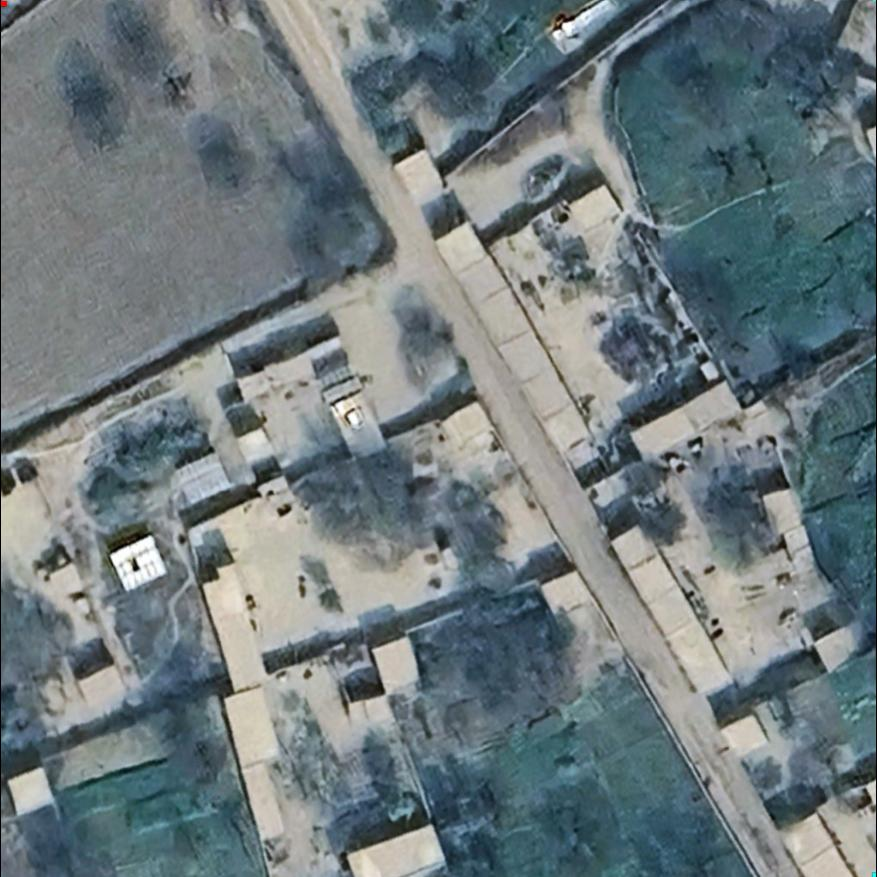Solarpanel: (102, 531, 177, 595)
